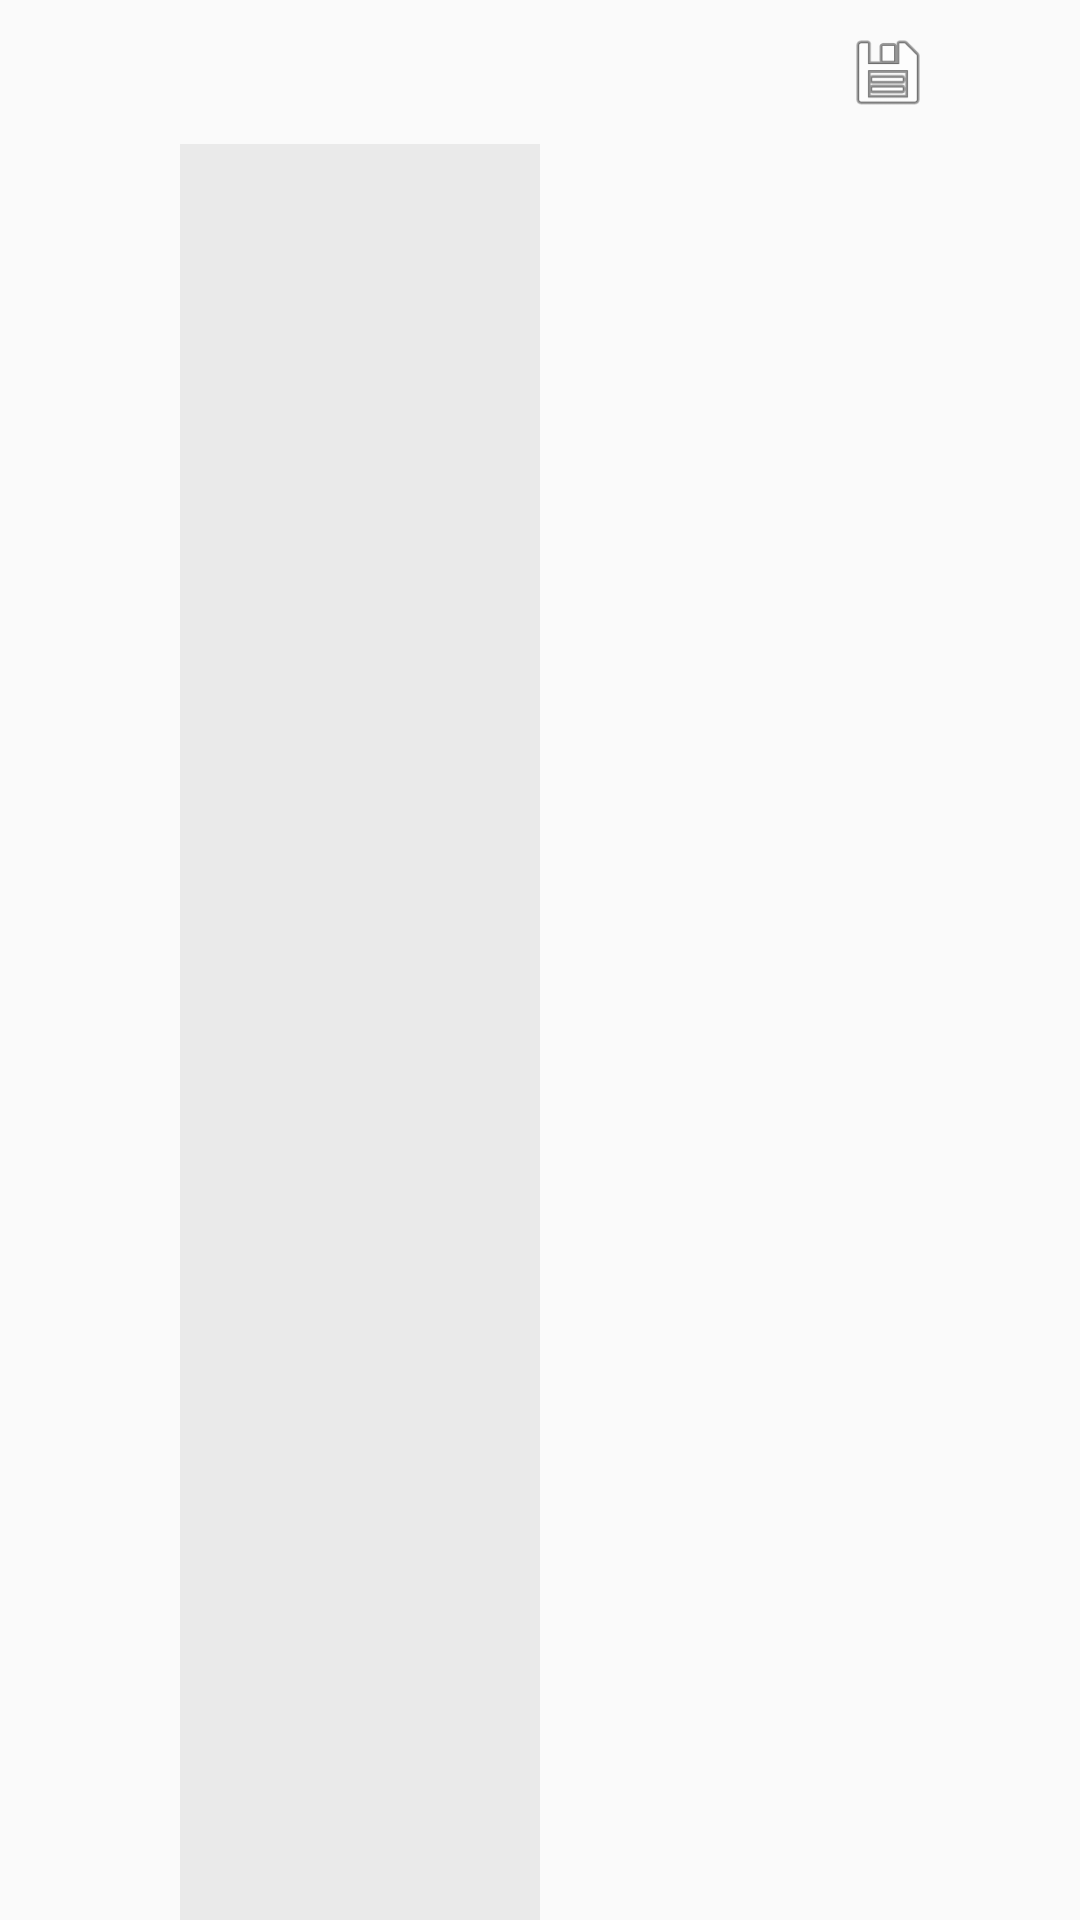

Icon bounding boxes for this 1080 × 1920 phone screenshot, format [x1, y1, x2, y2]:
导出 JSON: [856, 40, 920, 105]
